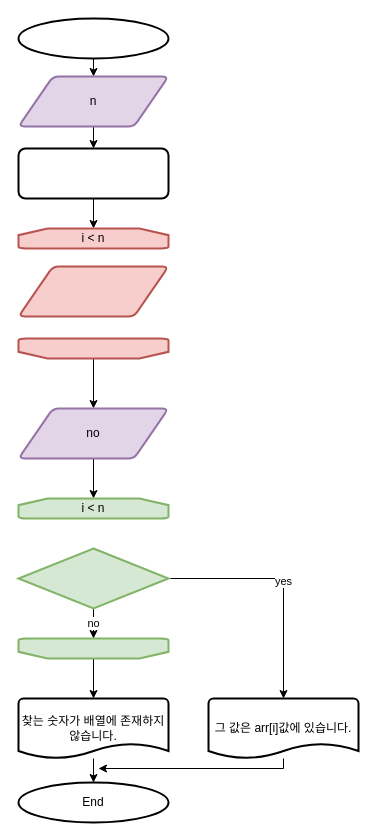
Image size: 376x840. Some labels were removed from this diagram. The shapes that lost their labels are listed below. From the top down, each one's centre as x and y in pixels, then its label:
At pixel 93 38: "Start".
At pixel 93 173: "arr[n]".
At pixel 93 291: "arr[i]".
At pixel 93 578: "arr[i] == no".
